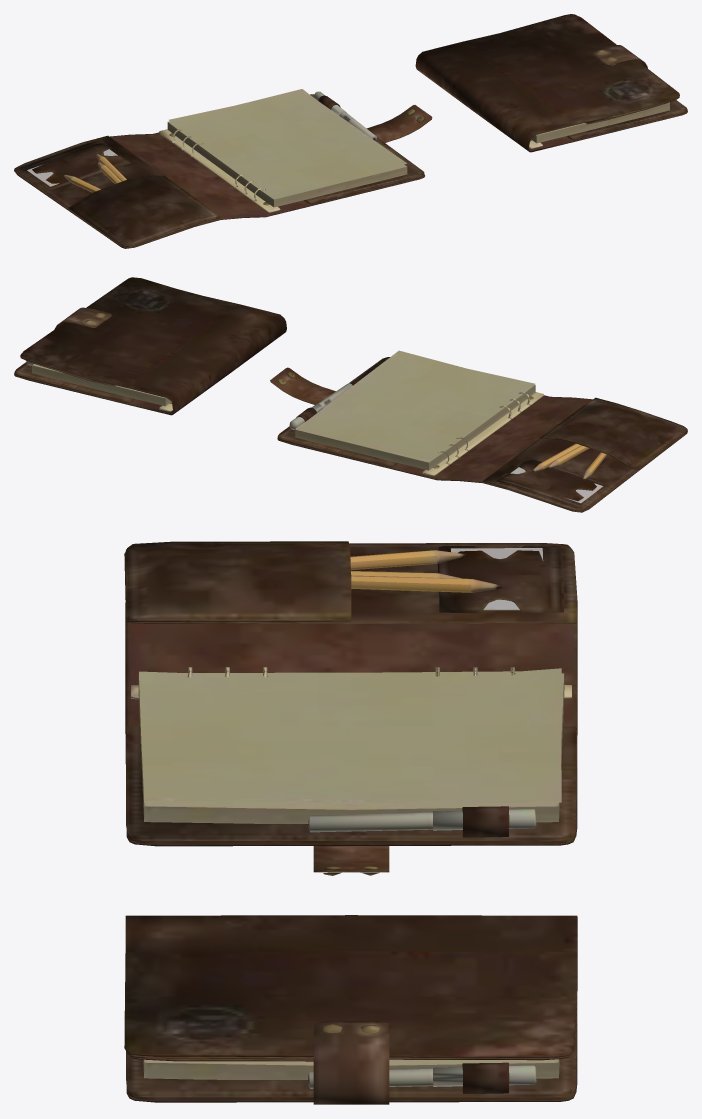
The model's file is binder_notebook.glb.
3 views of the same model, one above another, from view 1: azimuth 30°, elevation 25°; view 2: azimuth 150°, elevation 25°; view 3: azimuth 270°, elevation 25° (orthographic). The views are drawn at different scales.
Visible parts, largest first — view 1: binder_notebook, binder_notebook_closed; view 2: binder_notebook, binder_notebook_closed; view 3: binder_notebook, binder_notebook_closed.
Part boxes in pixels (left/top/right/bottom): binder_notebook: left=14, top=89, right=432, bottom=248; binder_notebook_closed: left=415, top=14, right=687, bottom=152; binder_notebook: left=270, top=350, right=687, bottom=512; binder_notebook_closed: left=14, top=277, right=286, bottom=415; binder_notebook: left=124, top=541, right=577, bottom=875; binder_notebook_closed: left=124, top=915, right=577, bottom=1104.
Bounding box in the file's own units: 0.5836 × 0.0249 × 0.1997.
Materials: 1 (1 with a texture image).
